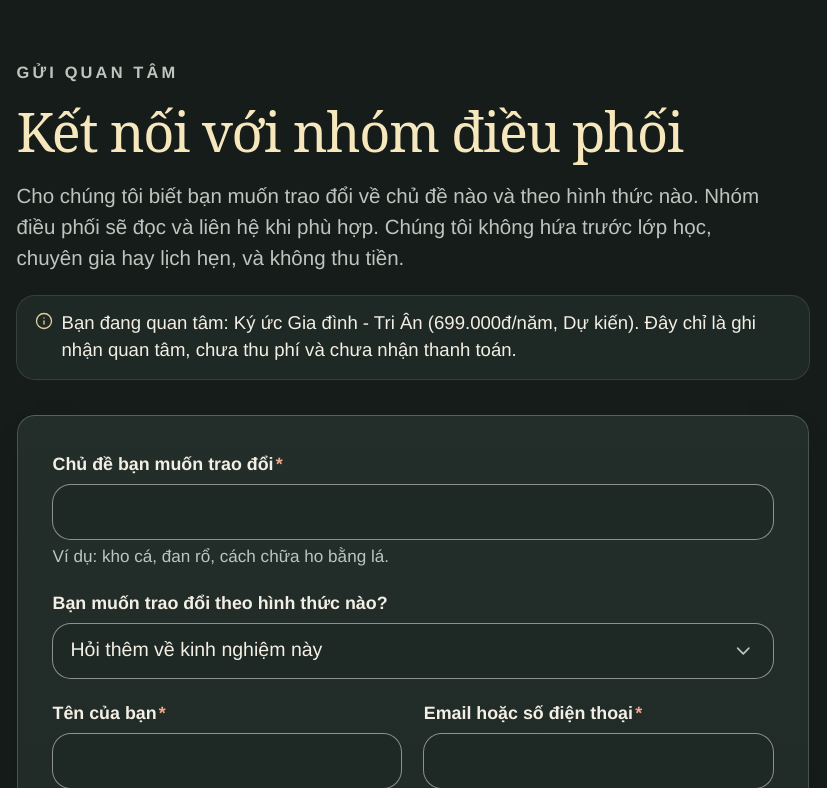
Test: ConnectPage (no Supabase = simulation) › labels itself as a simulation and never claims a real send
Expected: the heading "Kết nối với nhóm điều phối" is shown, left=16, top=94, right=683, bottom=168
Expected: the text "chưa thu phí và chưa nhận thanh toán" is shown, left=62, top=312, right=756, bottom=361
Type "Kho cá" into the field labelled "Chủ đề bạn muốn trao đổi*". click: (412, 512)
box: left=52, top=485, right=772, bottom=539
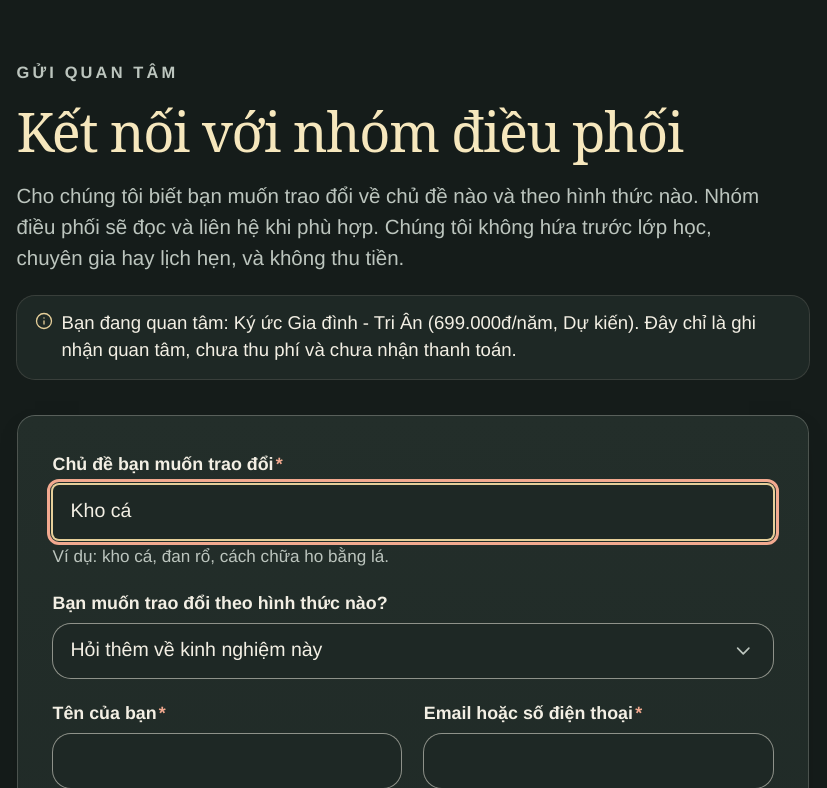
Type "Lan" into the field labelled "Tên của bạn*". click: (227, 761)
box: left=52, top=734, right=401, bottom=787
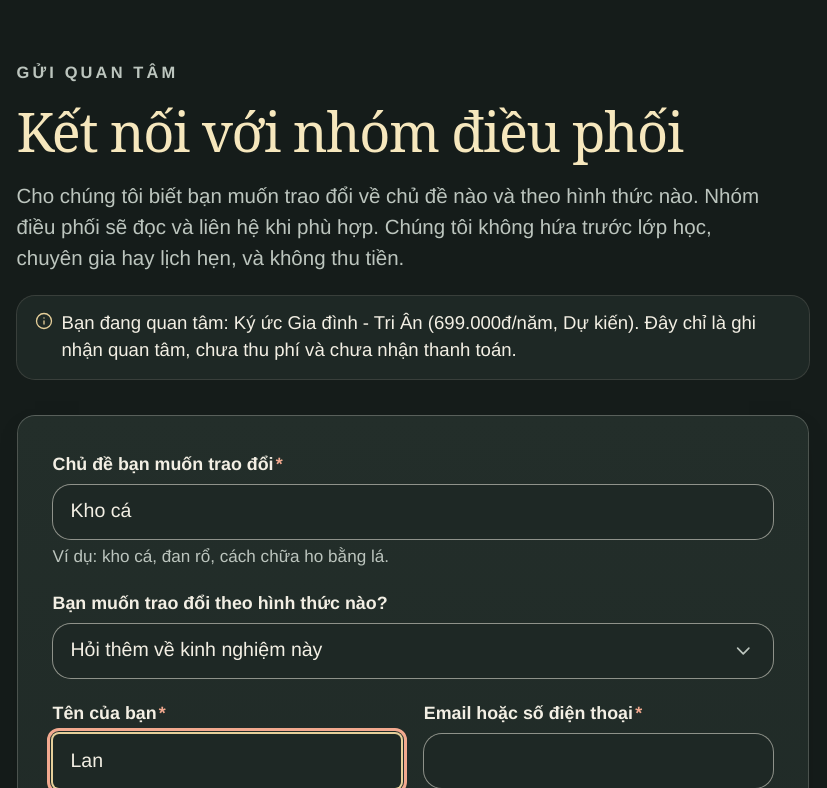
Type "lan@example.com" into the field labelled "Email hoặc số điện thoại*". click: (598, 761)
box: left=424, top=734, right=773, bottom=787
(page scrolled)
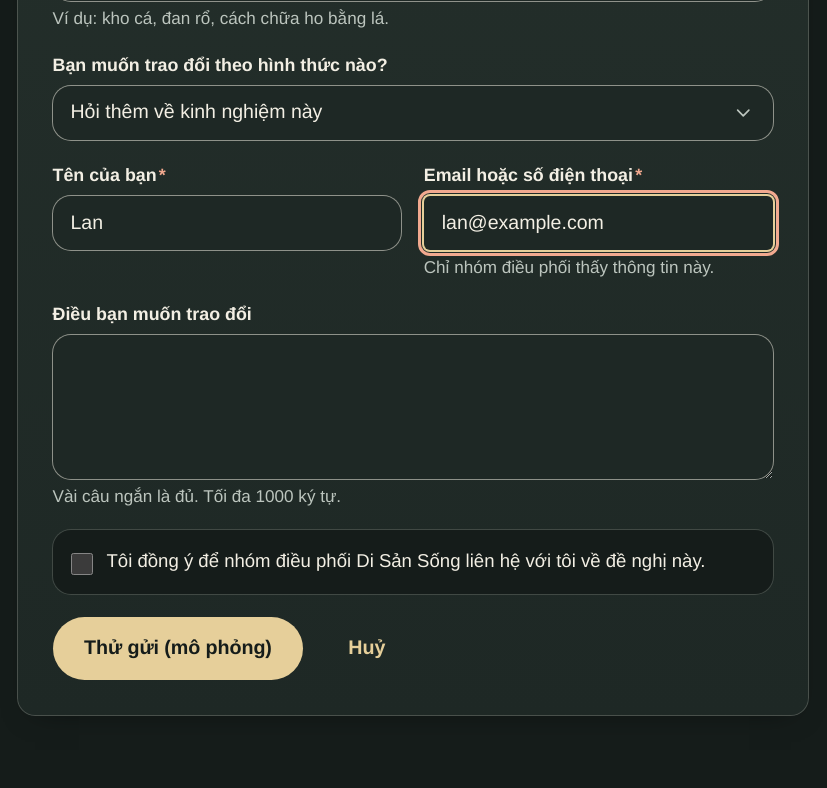
Click the checkbox. click: click(82, 564)
box: left=70, top=553, right=93, bottom=575
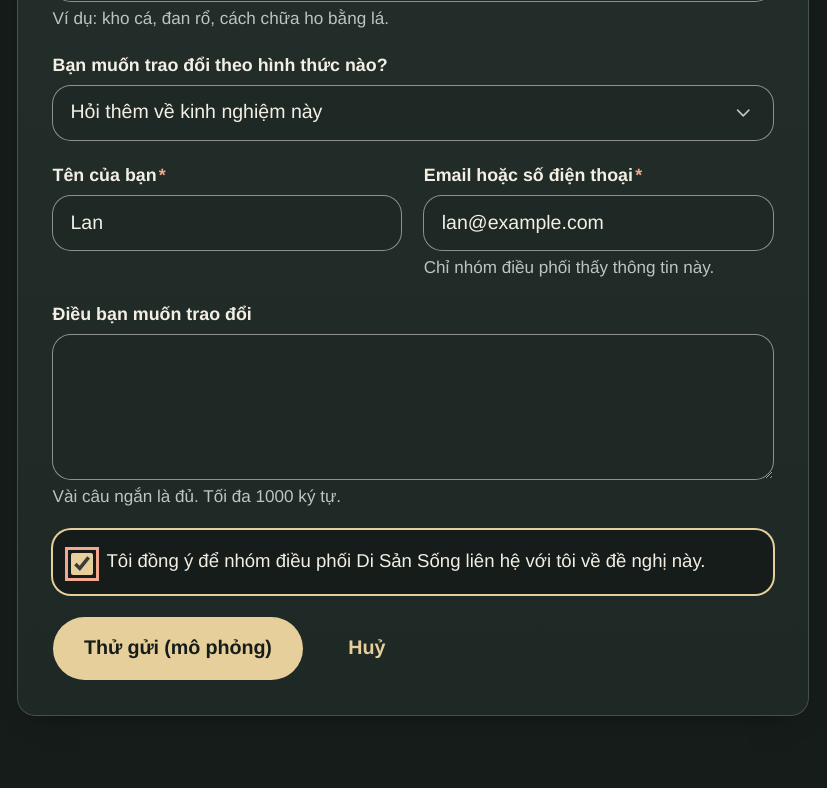
Click the button "Thử gửi (mô phỏng)". click: click(178, 648)
box: left=52, top=616, right=303, bottom=680
(page scrolled)
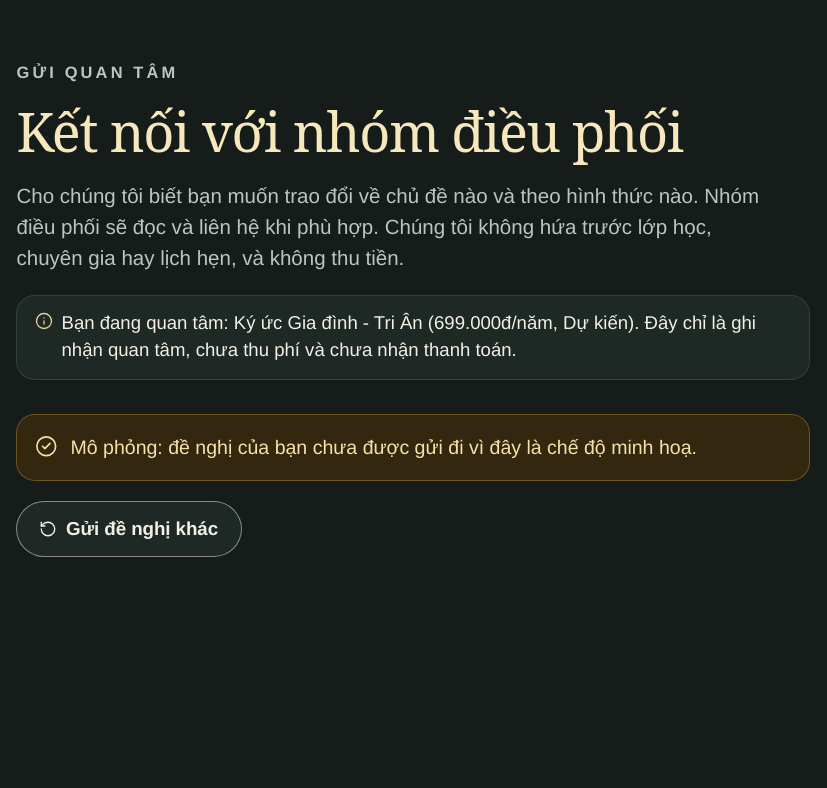
Now the message shows "Mô phỏng: đề nghị của bạn chưa được gửi đi", box left=70, top=436, right=697, bottom=459
